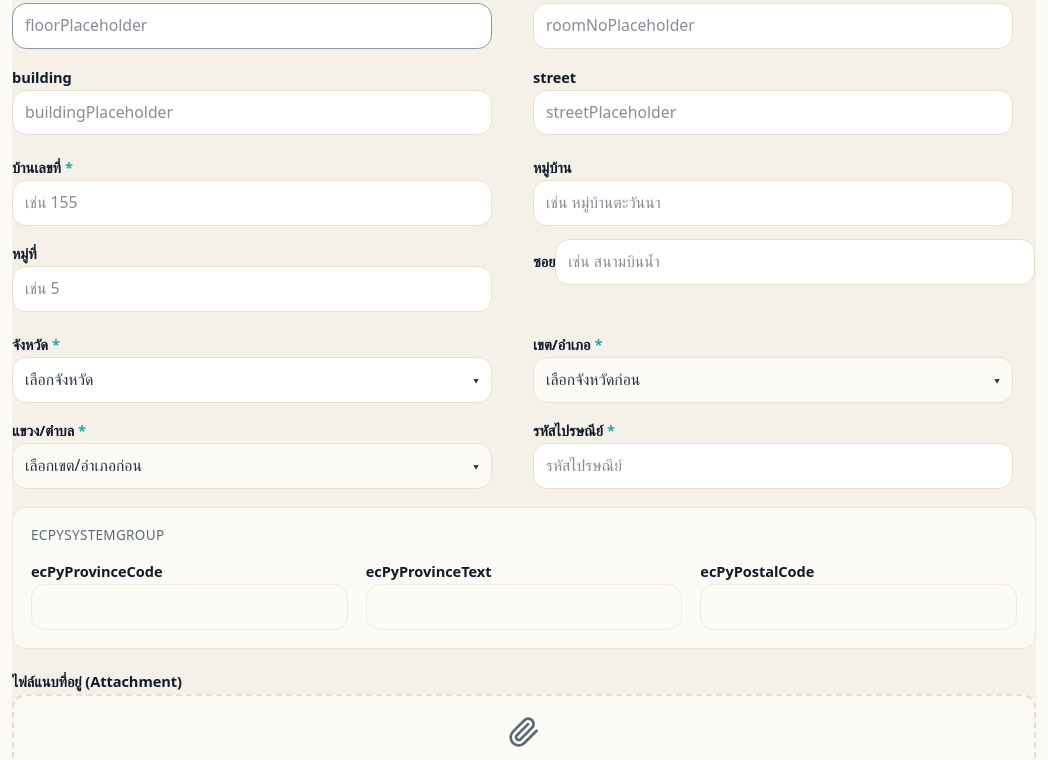
Test case: StepContact address picklist (Phase 2) › selects province, loads chunk, and then enables district dropdown
(page scrolled)
Open and select province
Step 1. Click the button "เลือกจังหวัด ▾" → (59, 379), box [12,357,492,402]
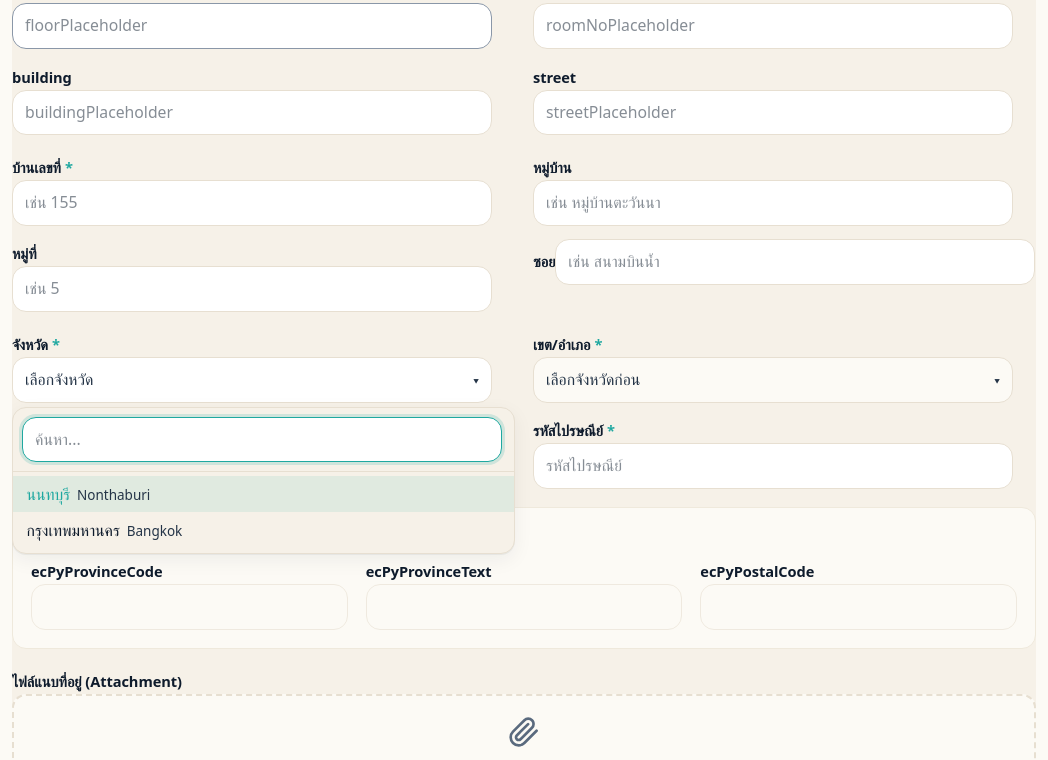
Now the text "นนทบุรี" is shown
Step 2. Click the text "นนทบุรี" → (48, 494), box [26,483,70,505]
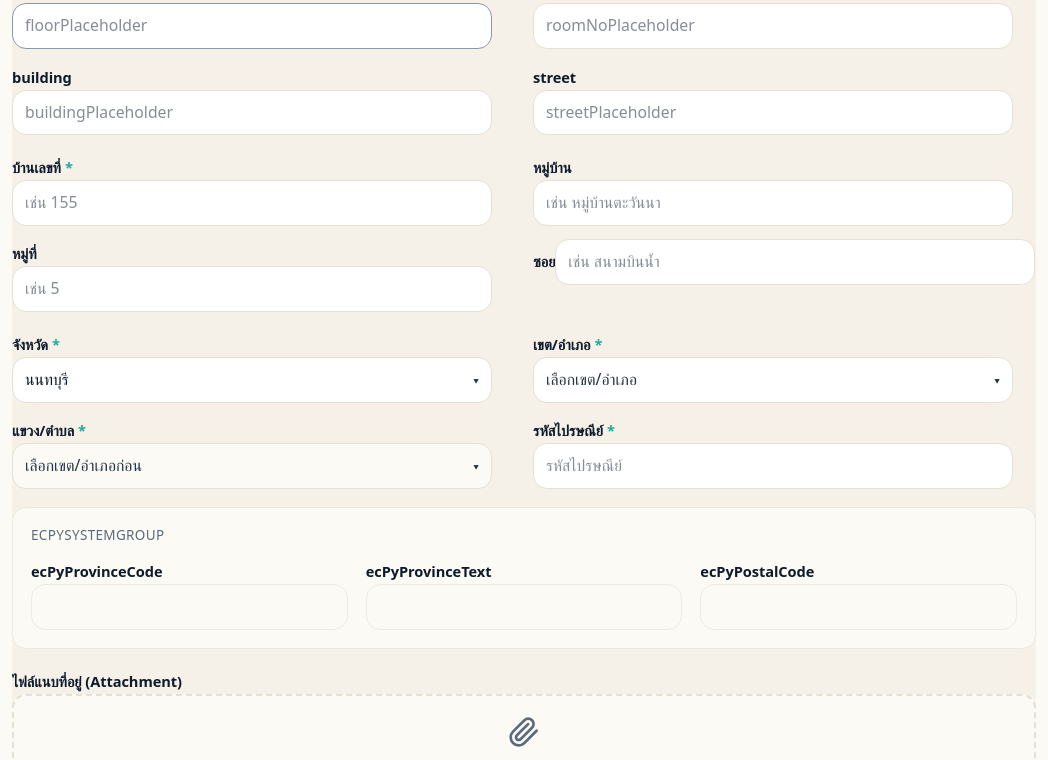
Now the button "เลือกเขต/อำเภอ ▾" is enabled, box [533,357,1013,402]
